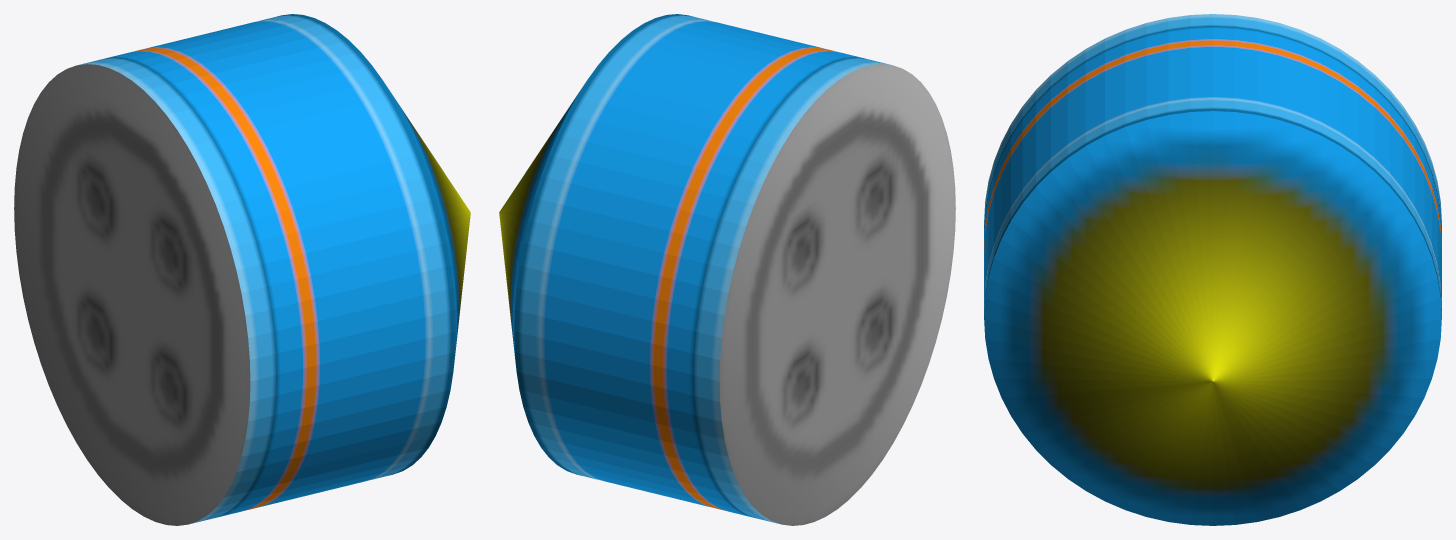
File: roller3c.obj
3 views of the same model, side by side, from view 1: azimuth 30°, elevation 25°; view 2: azimuth 150°, elevation 25°; view 3: azimuth 270°, elevation 25° (orthographic). The views are drawn at different scales.
Parts seen in each view (by area): view 1: ColobotMesh_1_ColobotMesh_; view 2: ColobotMesh_1_ColobotMesh_; view 3: ColobotMesh_1_ColobotMesh_.
Part boxes in pixels (bbox=[...]): ColobotMesh_1_ColobotMesh_: bbox=[14, 14, 470, 525]; ColobotMesh_1_ColobotMesh_: bbox=[499, 14, 955, 525]; ColobotMesh_1_ColobotMesh_: bbox=[984, 14, 1441, 525].
Bounding box in the file's own units: 4.96 × 6 × 6.
